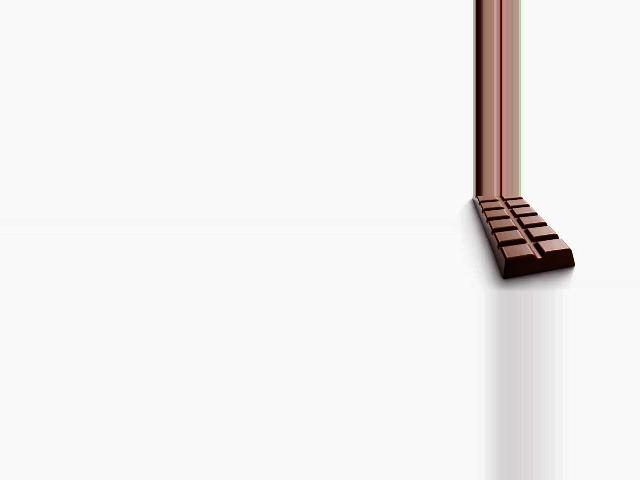chocolate: (466, 196, 575, 281)
